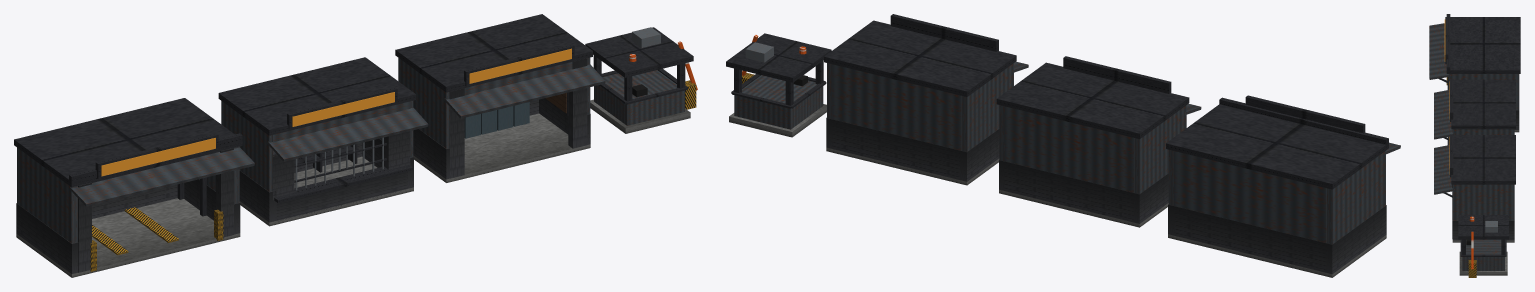
File: Lobby_Pack1_DepotShopFronts.glb
3 renders of one model, left to right at view 1: azimuth 30°, elevation 25°; view 2: azimuth 150°, elevation 25°; view 3: azimuth 270°, elevation 25°, orthographic. The views are drawn at different scales.
Visible parts, largest first — view 1: Lobby_ShopBay_VanSkins, Lobby_ShopBay_Emotes, Lobby_ShopBay_Items, Lobby_GuardBooth; view 2: Lobby_ShopBay_VanSkins, Lobby_ShopBay_Emotes, Lobby_ShopBay_Items, Lobby_GuardBooth; view 3: Lobby_ShopBay_Emotes, Lobby_ShopBay_VanSkins, Lobby_ShopBay_Items, Lobby_GuardBooth.
Part boxes in pixels (x1,y1,x2,y2): Lobby_ShopBay_VanSkins: (14, 98, 254, 277); Lobby_ShopBay_Emotes: (395, 14, 605, 182); Lobby_ShopBay_Items: (218, 57, 428, 226); Lobby_GuardBooth: (585, 27, 697, 133); Lobby_ShopBay_VanSkins: (1166, 95, 1400, 277); Lobby_ShopBay_Emotes: (824, 14, 1028, 185); Lobby_ShopBay_Items: (996, 56, 1201, 227); Lobby_GuardBooth: (726, 33, 831, 137); Lobby_ShopBay_Emotes: (1434, 134, 1515, 242); Lobby_ShopBay_VanSkins: (1429, 14, 1520, 132); Lobby_ShopBay_Items: (1434, 79, 1515, 145); Lobby_GuardBooth: (1458, 215, 1508, 277).
Size of the model in its own units: 30.03 by 4.87 by 5.74.
Materials: 1 (1 with a texture image).
